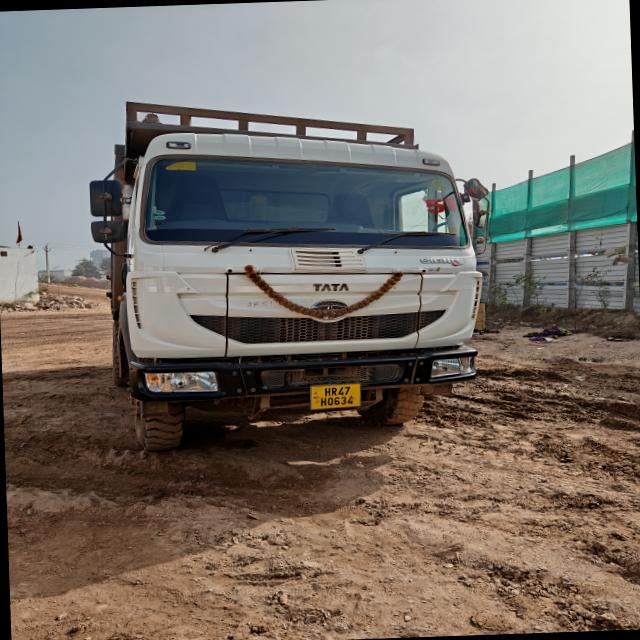license_plate: (311, 384, 360, 409)
